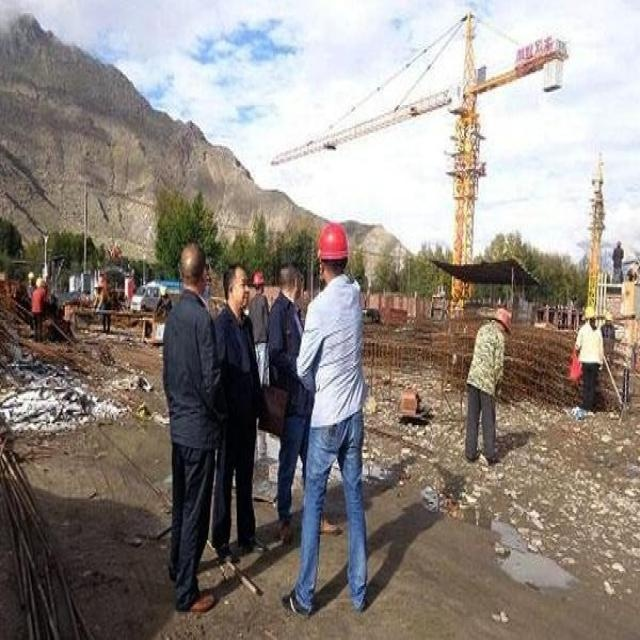Con_Casco: (316, 225, 348, 275)
Sin_Casco_Mascarrilla: (178, 240, 208, 291)
Sin_Chaleco: (309, 277, 363, 416)
